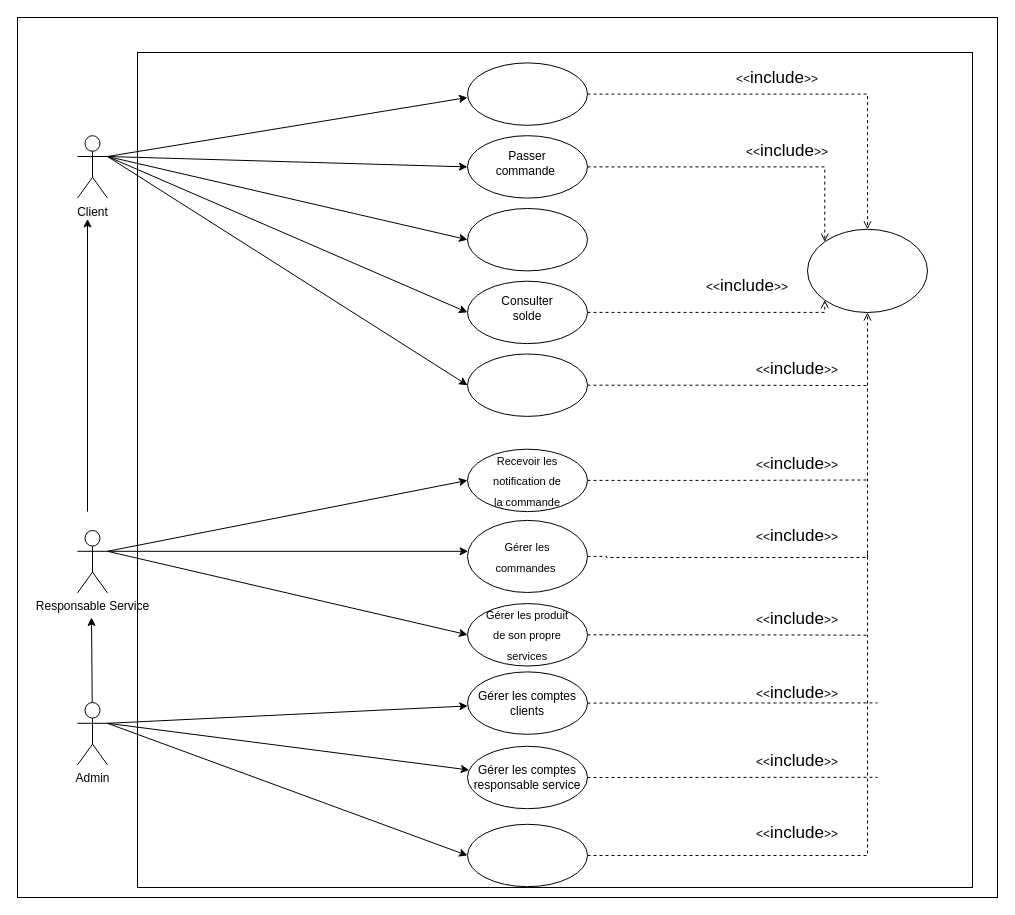
The diagram is 1015 pixels wide and 915 high, and some of its shapes have lost their labels. The shapes that lost their labels are listed below. From the top down, each one's centre as x and y in pixels, then its label:
the point at 527,93: Consulter historique
the point at 527,239: s'inscrire
the point at 867,270: S'authentifier
the point at 527,384: Consulter les services en extra
the point at 527,855: Gérer les services
